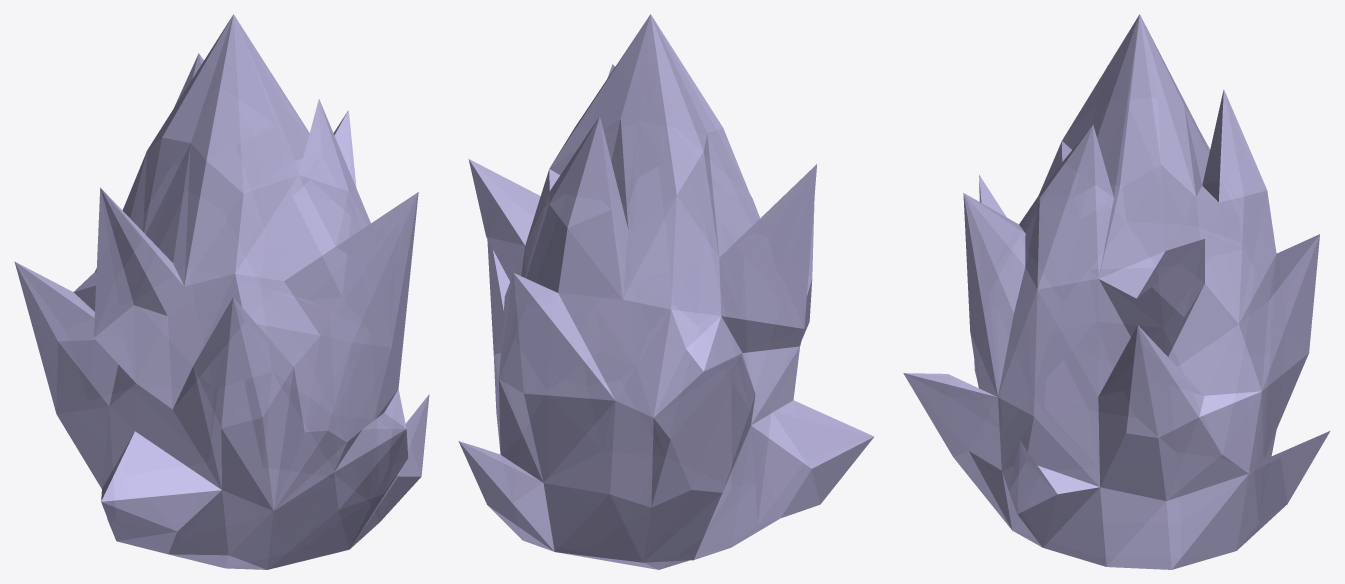
The model's file is cristal.fbx.
The picture shows the model from 3 angles, left to right: view 1: azimuth 30°, elevation 25°; view 2: azimuth 150°, elevation 25°; view 3: azimuth 270°, elevation 25°; orthographic projection. The views are drawn at different scales.
Parts seen in each view (by area): view 1: Cube; view 2: Cube; view 3: Cube.
Boxes of the visible parts, bbox=[...] form: Cube: bbox=[14, 14, 429, 569]; Cube: bbox=[458, 14, 874, 569]; Cube: bbox=[903, 14, 1330, 569].
Size of the model in its own units: 314 by 465 by 344.
